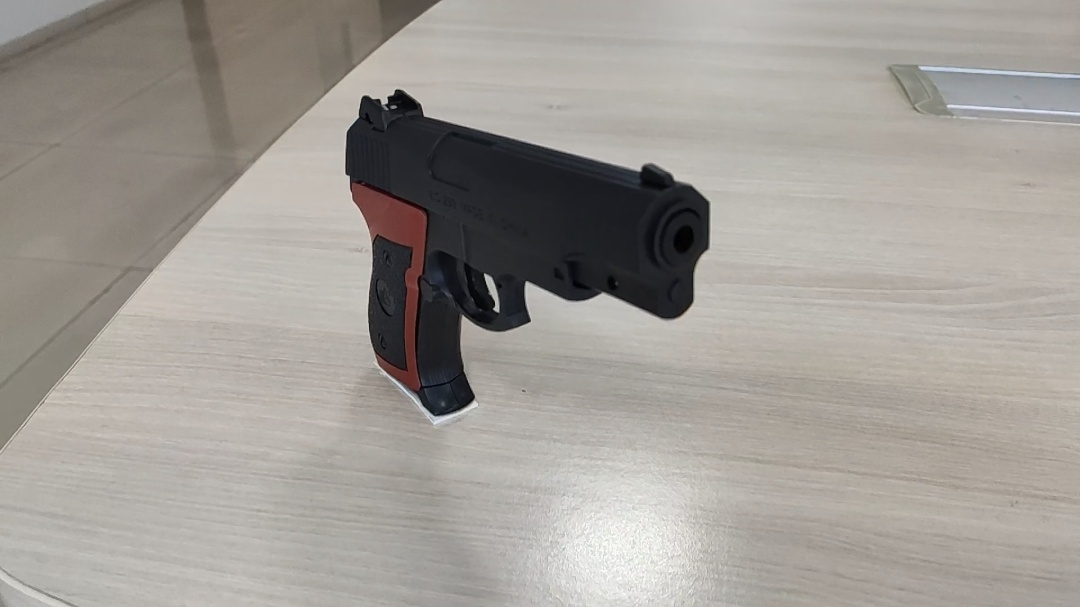gun: (349, 242, 467, 397)
